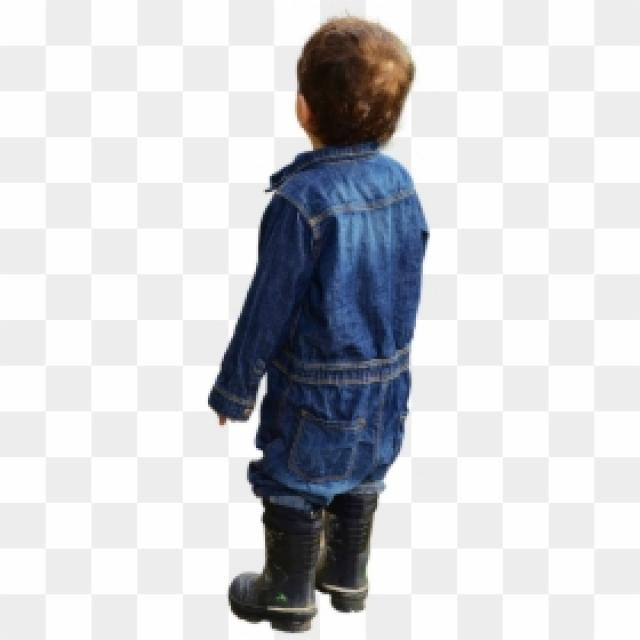child: (206, 20, 428, 633)
